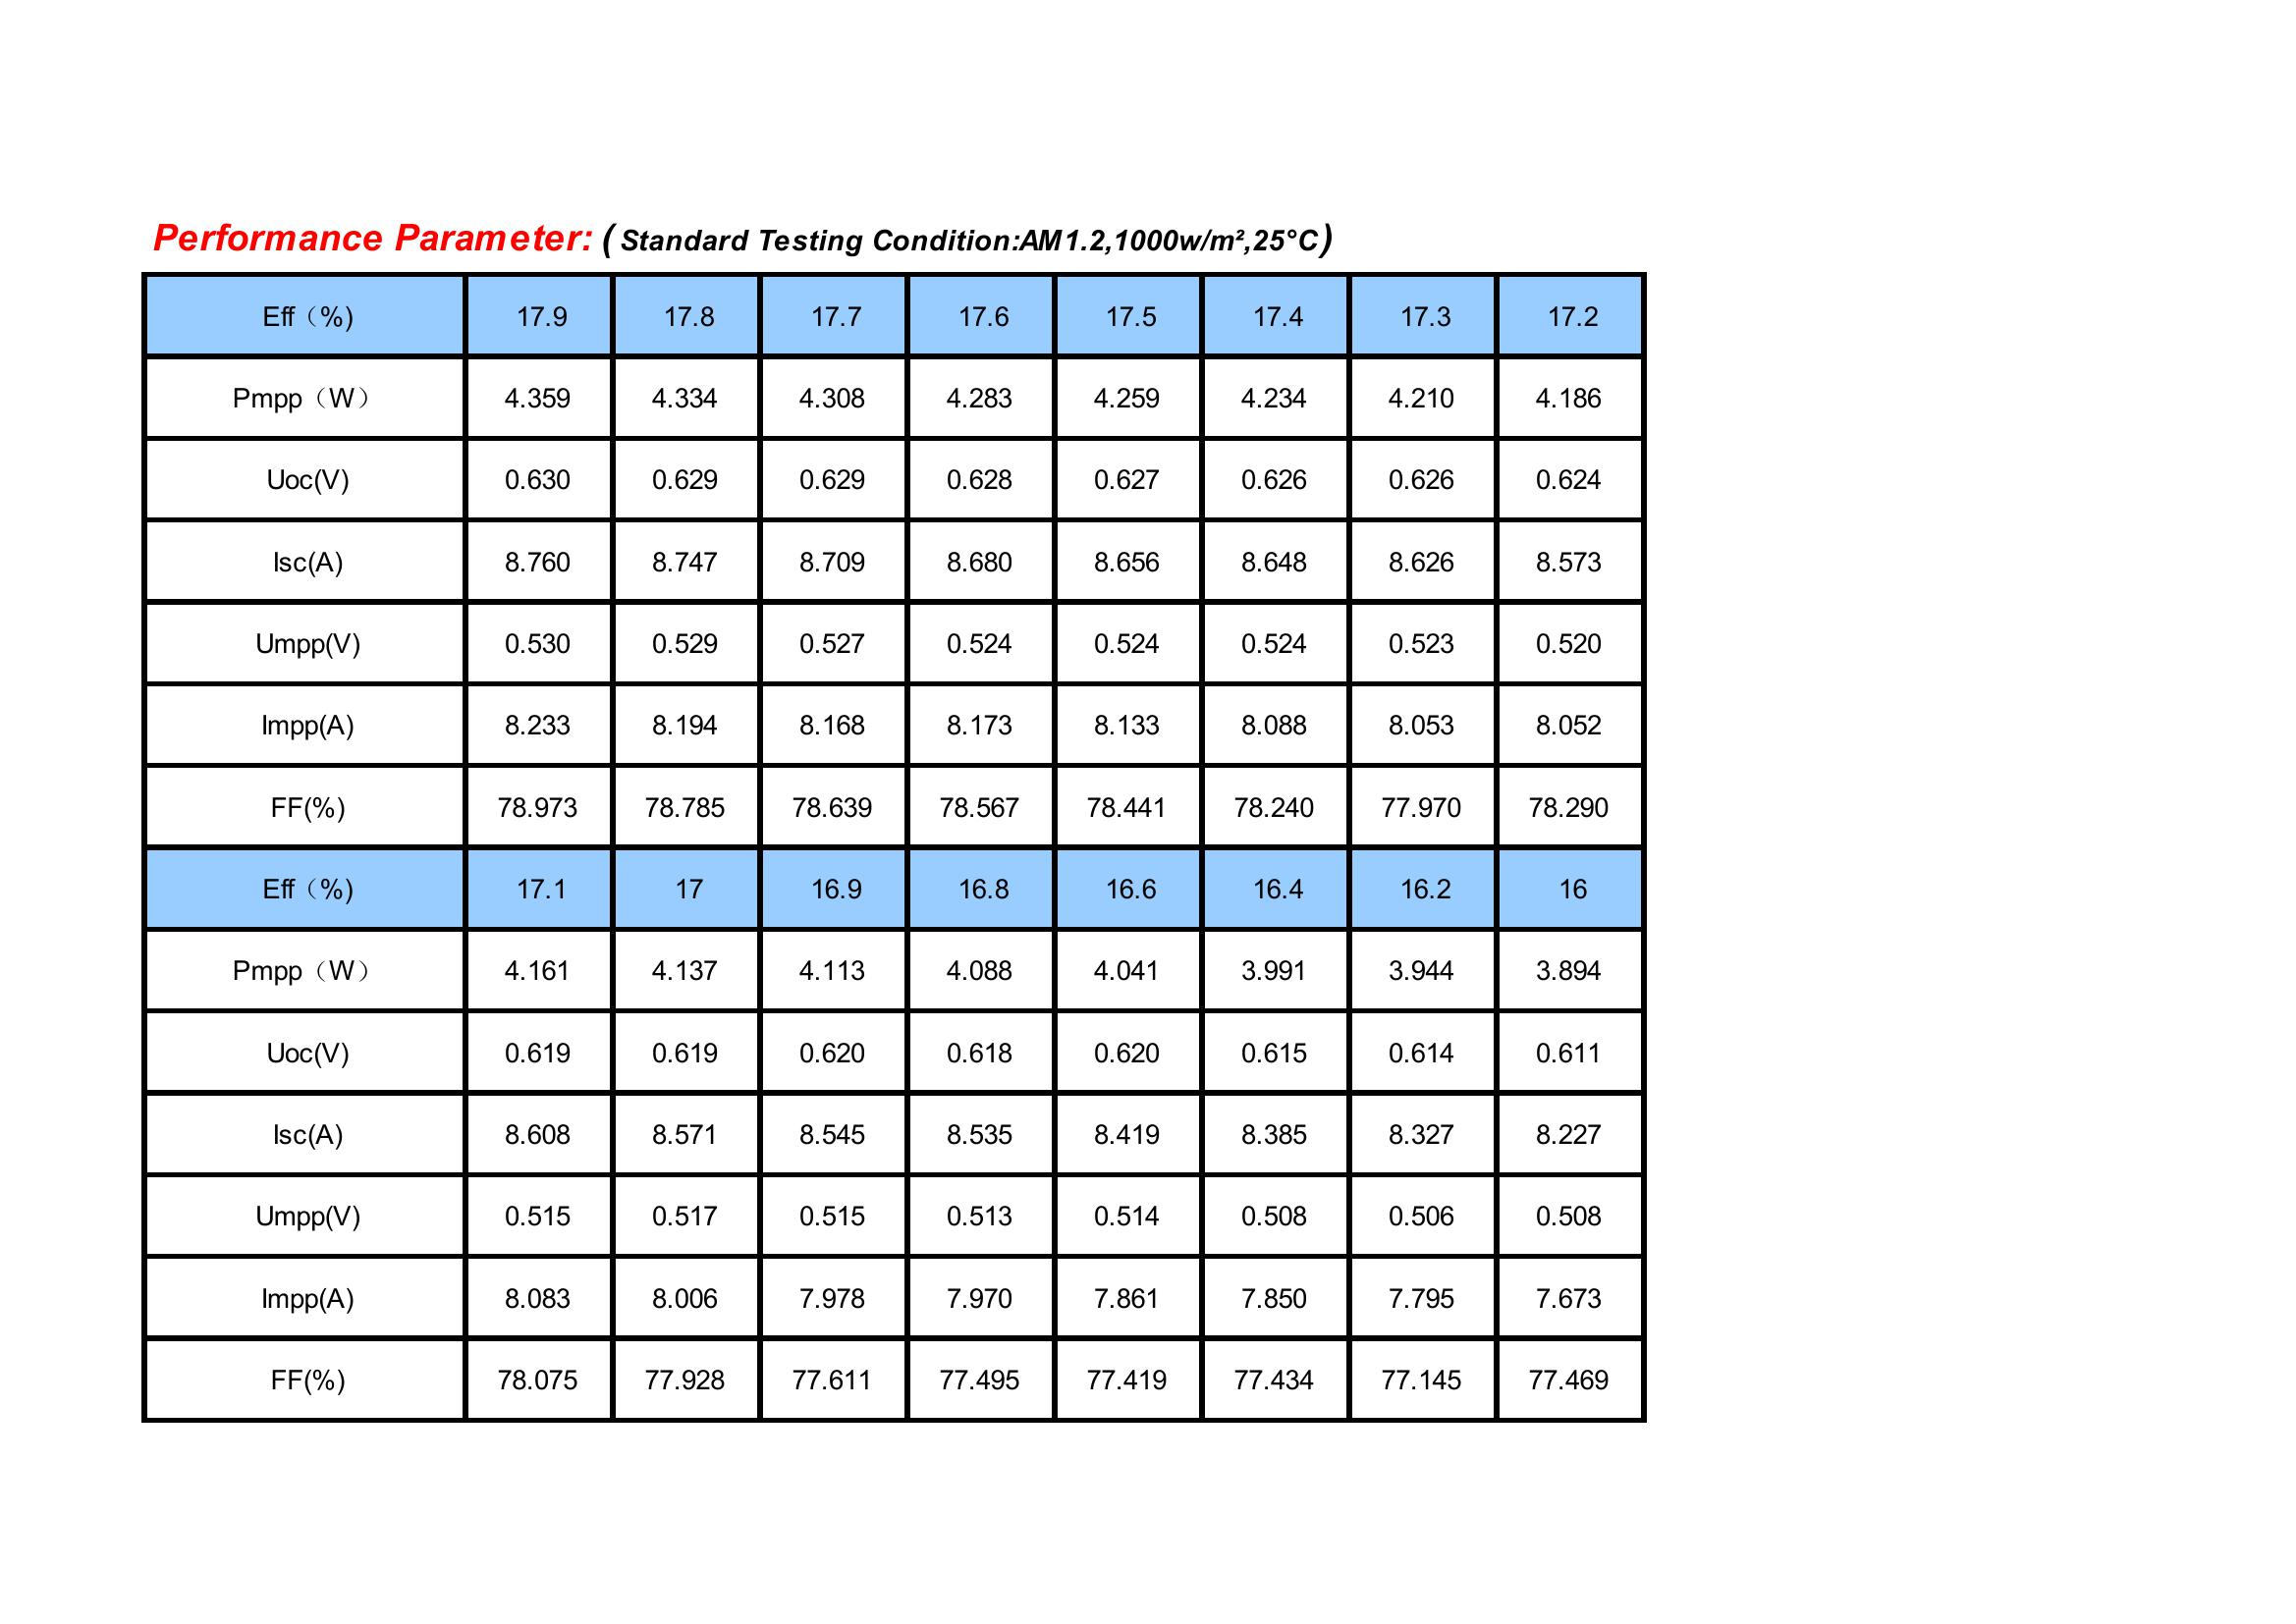table: (127, 260, 1663, 1432)
